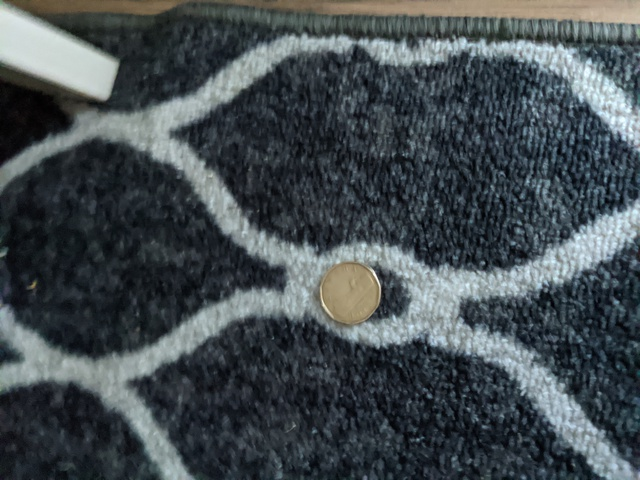loonie: (309, 262, 387, 328)
